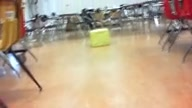cube: (89, 28, 109, 47)
